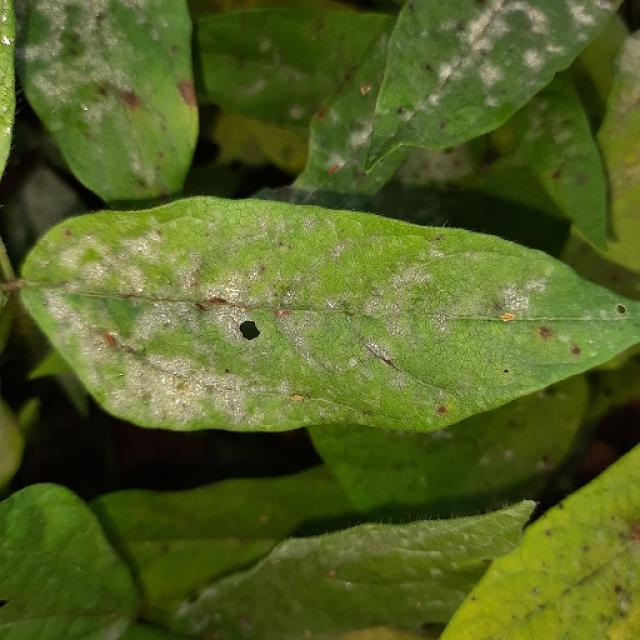Blackgram: (20, 196, 639, 430)
Powdery_Mildew: (72, 199, 389, 266), (209, 222, 425, 314), (123, 319, 277, 404), (82, 64, 184, 188), (26, 10, 136, 124), (255, 302, 384, 382), (455, 2, 575, 83), (197, 244, 293, 307), (50, 278, 113, 373), (120, 298, 204, 359), (372, 257, 453, 316), (138, 376, 235, 424), (602, 136, 640, 240), (99, 228, 178, 278), (141, 353, 205, 412), (460, 4, 517, 55), (491, 278, 540, 318), (0, 56, 16, 138), (568, 4, 600, 28), (1, 3, 14, 37), (347, 357, 359, 368), (1, 35, 11, 46), (3, 126, 11, 137), (1, 104, 9, 112), (2, 14, 9, 23)
